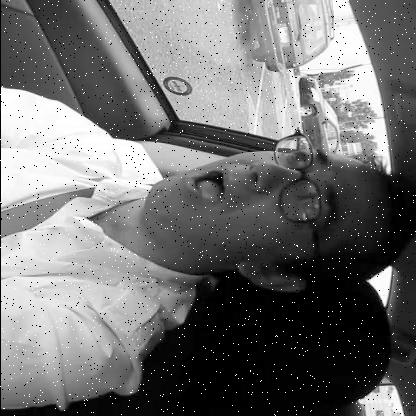seatbelt: (0, 129, 414, 309)
